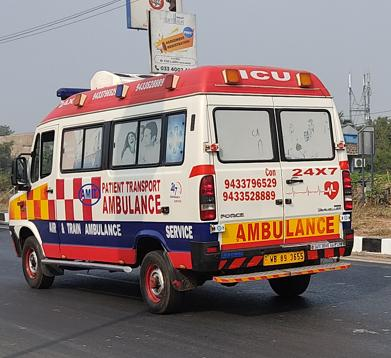ER: (9, 64, 350, 301)
